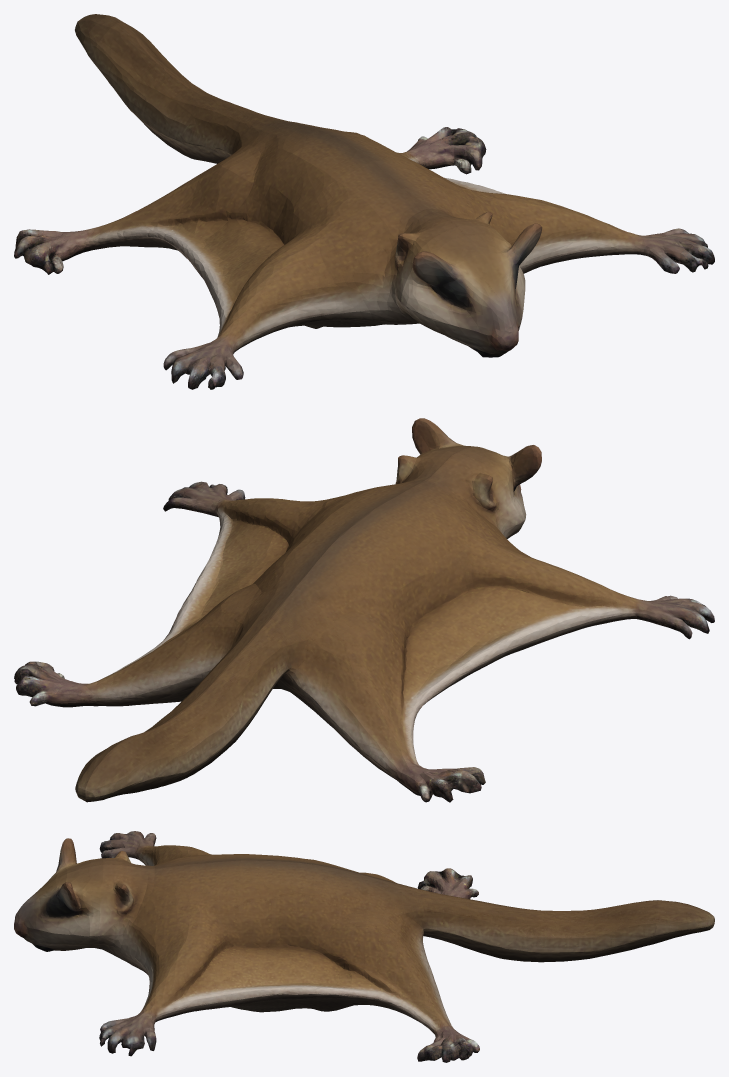
3 renders of one model, top to bottom at view 1: azimuth 30°, elevation 25°; view 2: azimuth 150°, elevation 25°; view 3: azimuth 270°, elevation 25°, orthographic. The views are drawn at different scales.
Visible parts, largest first — view 1: world; view 2: world; view 3: world.
Part boxes in pixels (left/top/right/bottom): world: left=14, top=14, right=714, bottom=389; world: left=14, top=418, right=714, bottom=802; world: left=14, top=831, right=714, bottom=1062.
Bounding box in the file's own units: 0.7222 × 0.2014 × 1.
Materials: 1 (1 with a texture image).
